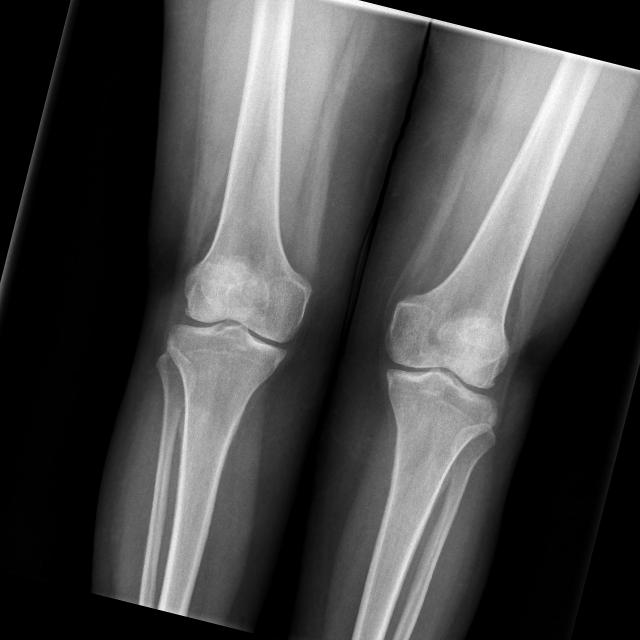Knee: (360, 299, 519, 445), (157, 250, 315, 394)
